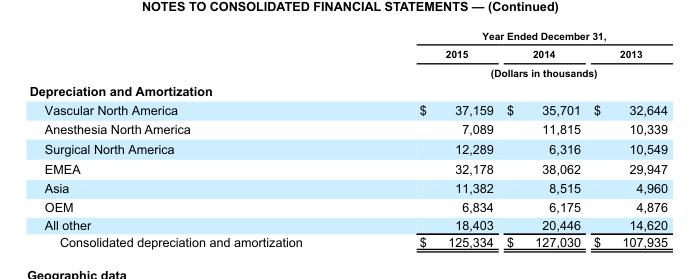table: (28, 29, 667, 248)
table column: (28, 29, 360, 248), (360, 29, 499, 248), (499, 29, 586, 248), (586, 29, 667, 248)
table column header: (28, 29, 667, 80)
table projected row header: (28, 80, 667, 99)
table row: (28, 118, 667, 138), (28, 138, 667, 158), (28, 158, 667, 178), (28, 44, 667, 63), (28, 80, 667, 99), (28, 99, 667, 118), (28, 178, 667, 197), (28, 197, 667, 215), (28, 215, 667, 233), (28, 63, 667, 80), (28, 29, 667, 44), (28, 233, 667, 248)
table spanning cell: (360, 63, 667, 80), (360, 29, 667, 44)
